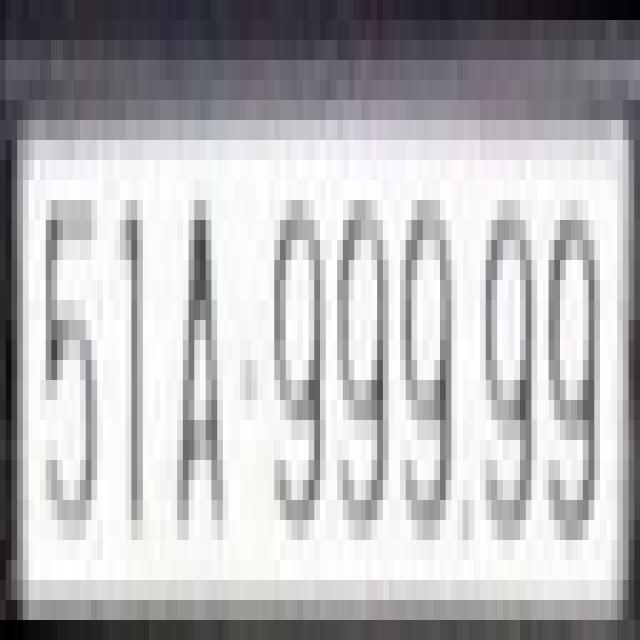1: (120, 200, 149, 540)
5: (40, 180, 103, 540)
9: (268, 180, 326, 540), (543, 200, 600, 540), (337, 180, 389, 540), (400, 180, 451, 540), (480, 200, 531, 540)
A: (172, 180, 228, 540)
